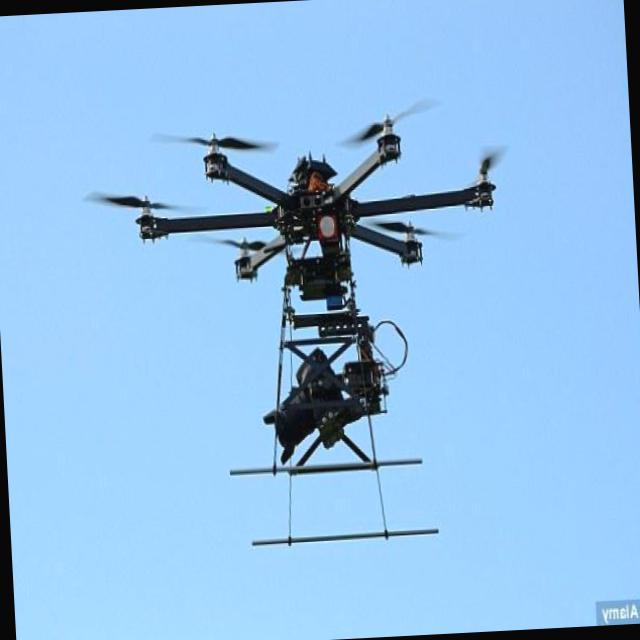drone: (110, 90, 524, 554)
